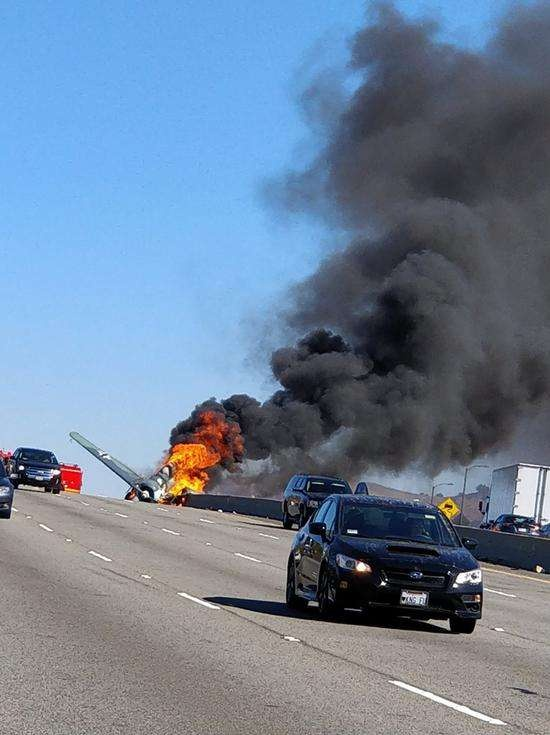fire: (152, 410, 251, 511)
